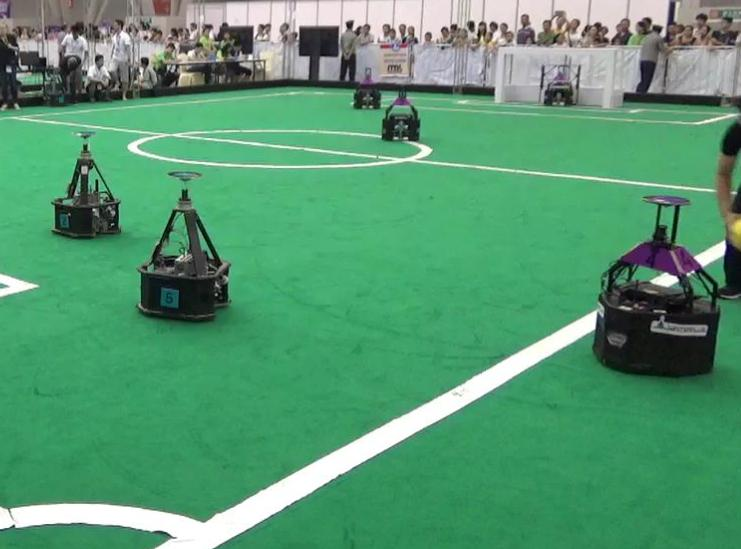robot: (590, 183, 721, 381), (131, 169, 239, 326), (47, 128, 128, 241), (378, 76, 420, 144)
